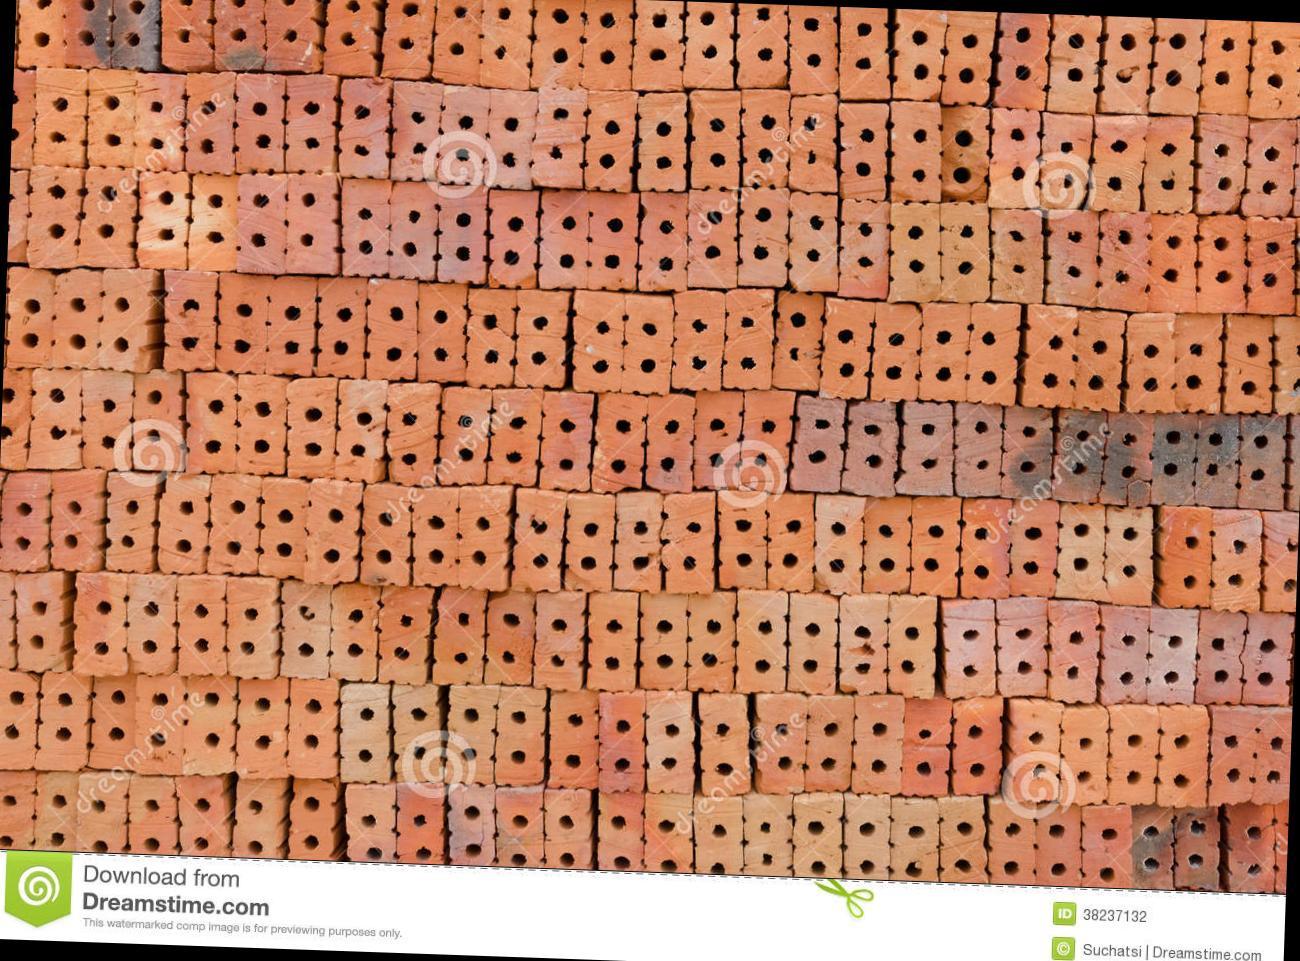brick: (303, 476, 361, 585), (78, 165, 138, 266), (695, 692, 754, 796), (939, 598, 998, 700), (384, 382, 441, 487), (72, 571, 129, 676), (511, 487, 567, 593), (27, 164, 85, 268), (48, 467, 106, 571), (1005, 700, 1064, 802), (1046, 600, 1102, 704), (26, 367, 84, 469), (224, 576, 282, 678), (887, 101, 944, 204), (819, 297, 875, 400), (739, 390, 795, 493), (13, 569, 70, 672), (456, 485, 511, 591), (734, 589, 788, 695), (660, 489, 716, 593), (752, 691, 807, 795), (131, 369, 188, 471), (79, 368, 135, 470), (993, 596, 1050, 698), (337, 681, 394, 783), (1090, 113, 1149, 211), (184, 70, 238, 175), (337, 76, 393, 179), (364, 278, 420, 381), (1022, 304, 1078, 407), (235, 676, 291, 779), (161, 270, 218, 370), (100, 268, 153, 373), (284, 375, 338, 478), (1158, 504, 1212, 608), (644, 689, 698, 793), (583, 90, 639, 192), (987, 107, 1043, 209), (285, 172, 340, 274), (887, 201, 943, 303), (591, 392, 647, 494), (287, 677, 342, 779), (377, 585, 434, 685), (36, 670, 93, 770), (390, 683, 446, 783), (1210, 508, 1264, 613), (314, 276, 368, 379), (570, 290, 625, 393), (184, 370, 238, 473), (33, 68, 89, 169), (532, 87, 587, 188), (488, 386, 543, 487), (967, 302, 1020, 406), (1157, 704, 1210, 808), (635, 191, 689, 293), (938, 201, 992, 303), (670, 289, 725, 391), (156, 472, 211, 574), (175, 573, 229, 675), (547, 687, 602, 789), (515, 289, 571, 387), (842, 400, 899, 496), (335, 378, 388, 483), (885, 594, 938, 699), (837, 592, 890, 695), (184, 673, 237, 776), (1097, 210, 1152, 311), (686, 90, 742, 189), (1047, 14, 1102, 113), (1149, 17, 1205, 114), (993, 11, 1050, 108), (1195, 112, 1249, 214), (285, 74, 339, 174), (435, 184, 490, 284), (716, 490, 770, 590), (433, 586, 488, 686), (445, 683, 500, 783), (897, 401, 956, 494), (790, 395, 846, 493), (1074, 309, 1126, 412), (132, 72, 187, 171), (135, 169, 190, 268), (837, 6, 893, 101), (595, 688, 647, 792), (390, 80, 442, 182), (51, 266, 104, 368), (416, 282, 468, 384), (235, 373, 288, 475), (125, 572, 178, 674), (951, 695, 1003, 796), (133, 673, 186, 775), (1143, 114, 1196, 214), (787, 192, 841, 292), (870, 301, 924, 401), (1051, 409, 1108, 502), (1242, 118, 1297, 216), (488, 87, 539, 190), (723, 287, 774, 390), (613, 491, 664, 594), (234, 72, 287, 173), (538, 189, 590, 290), (216, 272, 268, 372), (1222, 313, 1275, 414), (813, 494, 865, 595), (208, 473, 260, 574), (0, 471, 52, 572), (562, 491, 615, 592), (852, 693, 904, 794), (686, 189, 740, 288), (837, 199, 890, 298), (486, 190, 540, 289), (1099, 16, 1154, 113), (989, 208, 1045, 303), (1239, 611, 1295, 706), (266, 275, 318, 377), (909, 495, 961, 597), (439, 85, 492, 185), (586, 191, 639, 291), (1244, 215, 1297, 315), (1103, 504, 1156, 604), (586, 591, 639, 690), (1107, 705, 1160, 805), (837, 103, 890, 201), (533, 590, 586, 687), (941, 10, 996, 104), (738, 186, 789, 287), (236, 172, 288, 273), (1196, 213, 1248, 314), (623, 293, 674, 394), (1124, 311, 1176, 412), (105, 471, 156, 572), (787, 592, 838, 695), (1206, 705, 1257, 808), (901, 697, 953, 797), (788, 92, 841, 191), (636, 92, 688, 191), (541, 391, 593, 490), (638, 592, 690, 690), (279, 579, 331, 678), (410, 485, 460, 586), (644, 393, 695, 493), (1008, 498, 1060, 598), (960, 498, 1011, 598), (1059, 706, 1110, 806), (361, 483, 411, 586), (686, 590, 736, 693), (1040, 112, 1092, 210), (1046, 209, 1099, 305), (1100, 411, 1155, 505), (339, 178, 391, 277), (466, 288, 518, 387), (691, 390, 743, 489), (439, 386, 491, 485), (388, 181, 438, 281), (919, 301, 970, 401), (1173, 312, 1223, 412), (631, 0, 686, 91), (765, 492, 816, 592), (1099, 605, 1150, 705), (496, 685, 546, 785), (1147, 607, 1199, 703), (739, 88, 789, 187), (940, 104, 990, 203), (1150, 212, 1199, 313), (771, 290, 822, 389), (1249, 20, 1300, 117), (861, 496, 912, 593), (1195, 608, 1247, 705), (485, 589, 537, 685), (328, 584, 380, 681), (803, 695, 855, 791), (893, 8, 948, 99), (86, 69, 136, 167), (6, 266, 55, 368), (258, 476, 307, 578), (1002, 404, 1055, 498), (786, 4, 841, 94), (952, 401, 1003, 496), (1199, 19, 1251, 114), (174, 774, 233, 856), (189, 173, 238, 271), (1057, 502, 1106, 599), (530, 0, 584, 88), (1224, 802, 1277, 892), (735, 3, 789, 89), (480, 0, 533, 89), (582, 0, 634, 90), (938, 795, 990, 883), (683, 1, 736, 88), (1237, 414, 1285, 510), (343, 781, 399, 863), (742, 793, 796, 876), (791, 791, 844, 877), (90, 674, 137, 769), (1080, 804, 1133, 887), (76, 770, 129, 854), (263, 0, 325, 73), (841, 791, 892, 878), (986, 797, 1037, 884), (231, 776, 285, 858), (381, 0, 436, 79), (1194, 412, 1240, 506), (1151, 411, 1197, 505), (323, 0, 381, 76), (126, 774, 181, 854), (1034, 802, 1084, 887), (643, 791, 696, 872), (1173, 805, 1222, 891), (495, 784, 546, 867), (395, 781, 446, 864), (542, 788, 594, 869), (432, 0, 482, 84), (889, 797, 940, 880), (447, 782, 497, 866), (692, 794, 744, 874), (0, 666, 39, 770), (158, 0, 215, 72), (289, 778, 337, 860), (1130, 805, 1177, 889), (1261, 512, 1300, 612), (213, 0, 268, 70), (597, 792, 645, 871), (1255, 707, 1293, 805), (34, 769, 79, 851), (0, 367, 34, 470), (111, 0, 161, 70), (17, 0, 68, 68), (66, 0, 114, 69), (1271, 315, 1300, 415), (0, 769, 36, 849), (10, 69, 36, 170), (1003, 454, 1004, 455)
